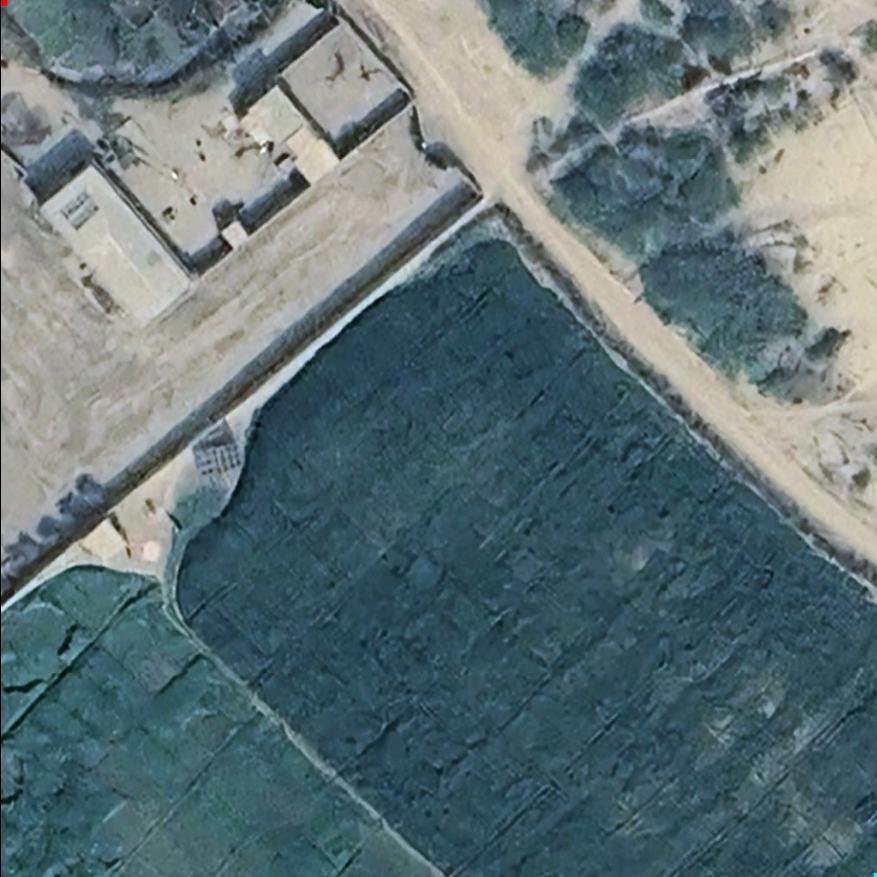Solarpanel: (184, 438, 250, 486), (52, 186, 105, 235)
